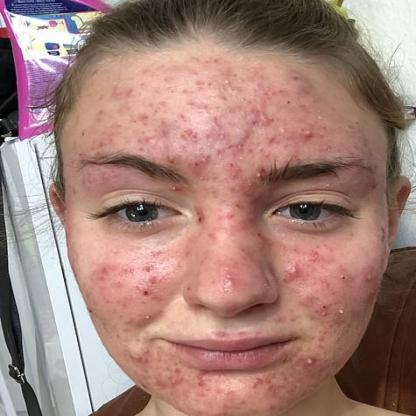Acne: (222, 268, 237, 292), (255, 144, 273, 162), (180, 128, 200, 144), (333, 303, 350, 320), (143, 134, 158, 152), (211, 328, 231, 340), (140, 287, 155, 303), (253, 375, 268, 391), (304, 354, 319, 368), (143, 263, 158, 277), (364, 272, 380, 285), (319, 307, 331, 324), (284, 264, 300, 276), (338, 272, 350, 286), (278, 124, 289, 138), (141, 346, 152, 358), (141, 312, 152, 323), (169, 186, 181, 194), (252, 172, 264, 180), (304, 129, 314, 137)
